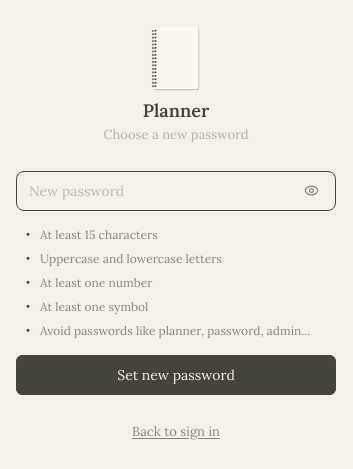
Scenario: ResetPasswordPage › shows a weak password as a field error
Type "short" into the password field with placeholder "New password" at {"x": 160, "y": 190}, box [29,180,291,200]
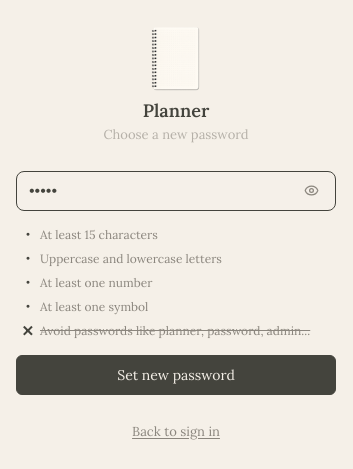
Click the button "Set new password" at {"x": 176, "y": 374}, box [16,354,336,394]
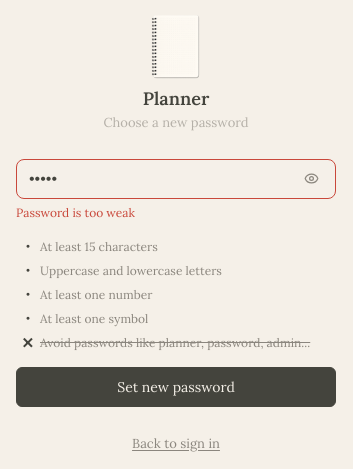
Expected: the text "Password is too weak" is shown, [16,204,135,220]
